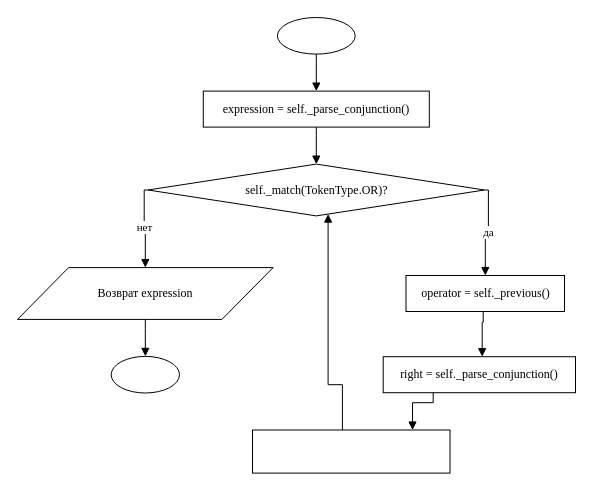
Image size: 593x491. Some labels were removed from this diagram. Here are the shapes that lost their labels. From the top down, the centre of each, then its label:
[315,35]: Начало
[145,374]: Конец
[351,451]: expression = BinaryExpression( operator.value, expression, right)
